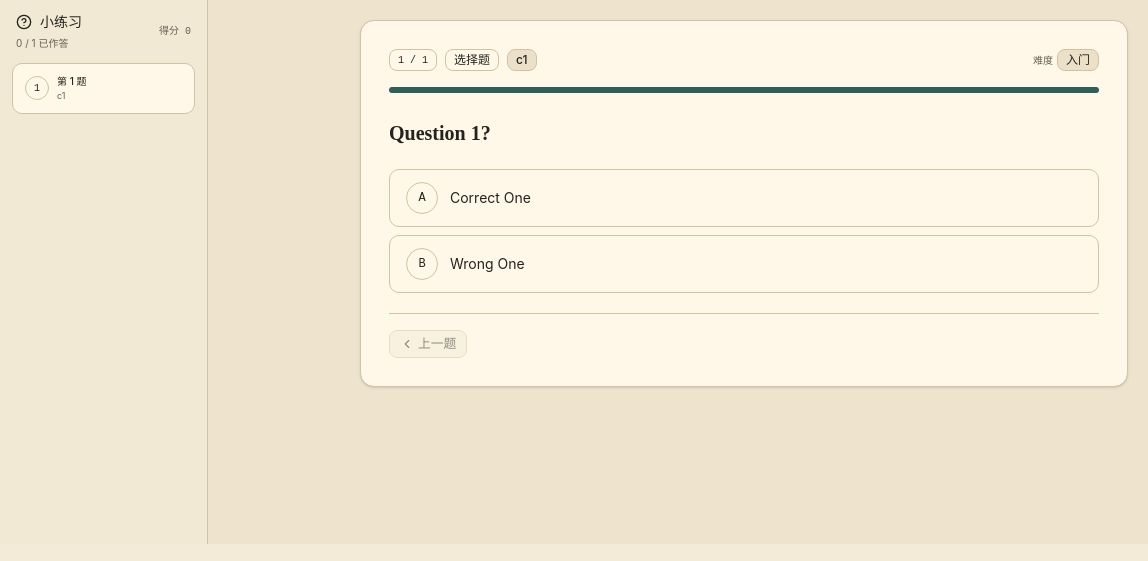
Test: QuizPanel › shows correct feedback for right answer
The width and height of the screenshot is (1148, 561).
Click the button "A Correct One" at [422, 198], box [389, 169, 1099, 227]
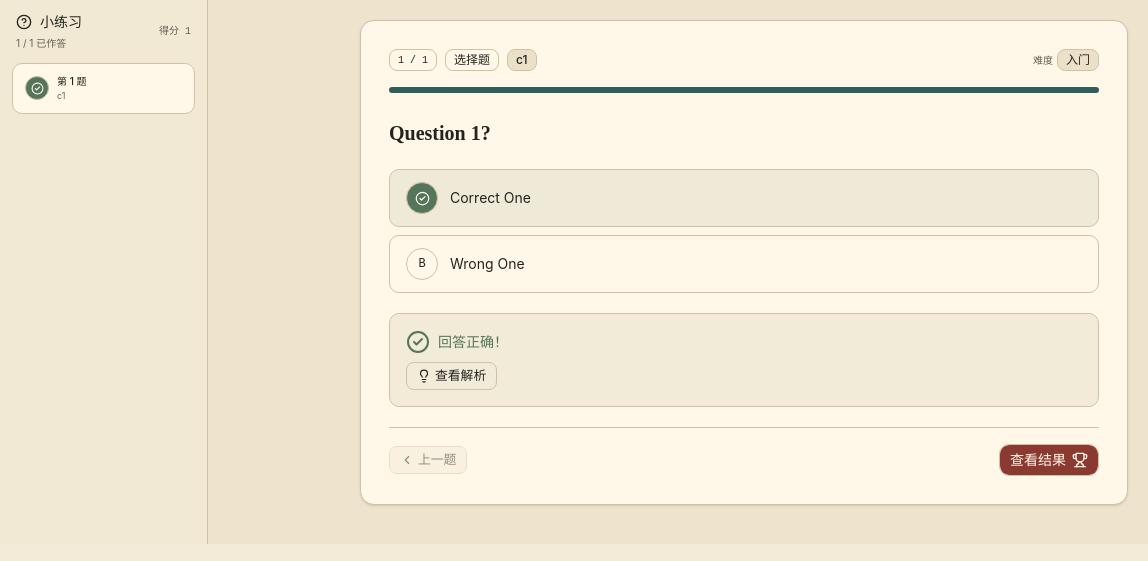
Now the text "回答正确！" is shown, box [406, 330, 508, 354]
